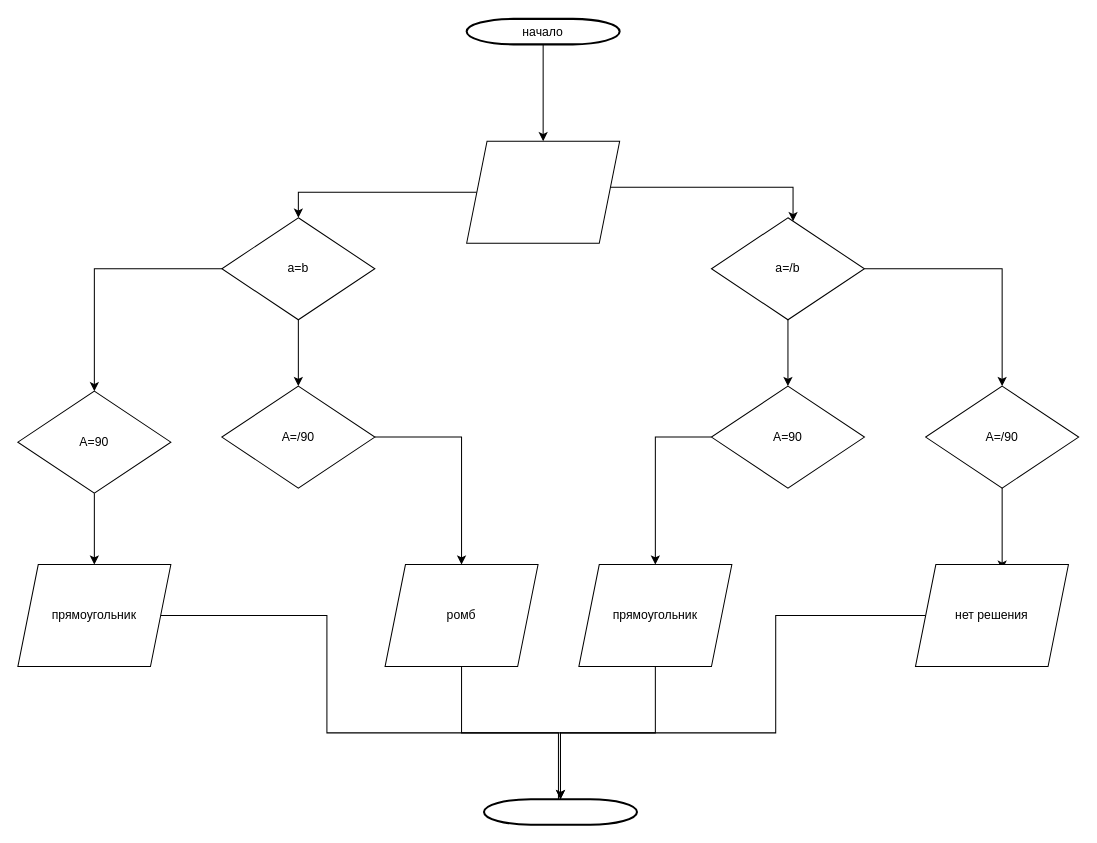
This 1097x843 diagram has some shape labels left out. The shapes that lost their labels are listed below. From the top down, each one's centre as x and y in pixels, then its label:
the point at 543,191: a,b и угол между ними A
the point at 560,811: конец
